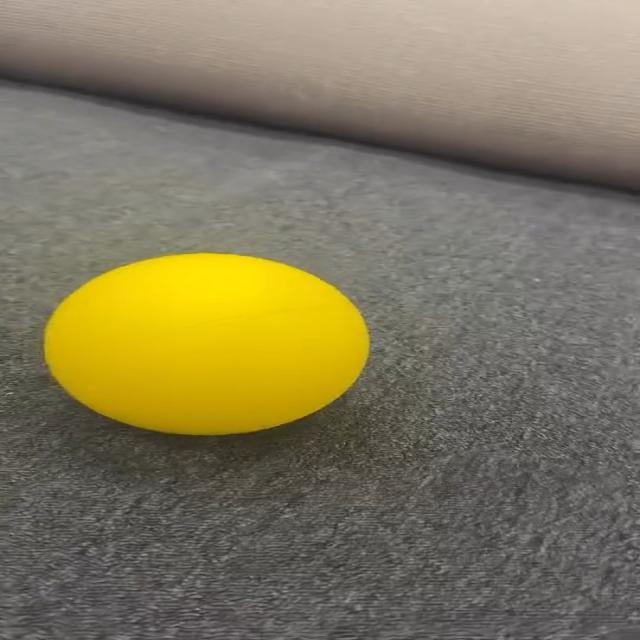Fuels: (46, 254, 369, 433)
